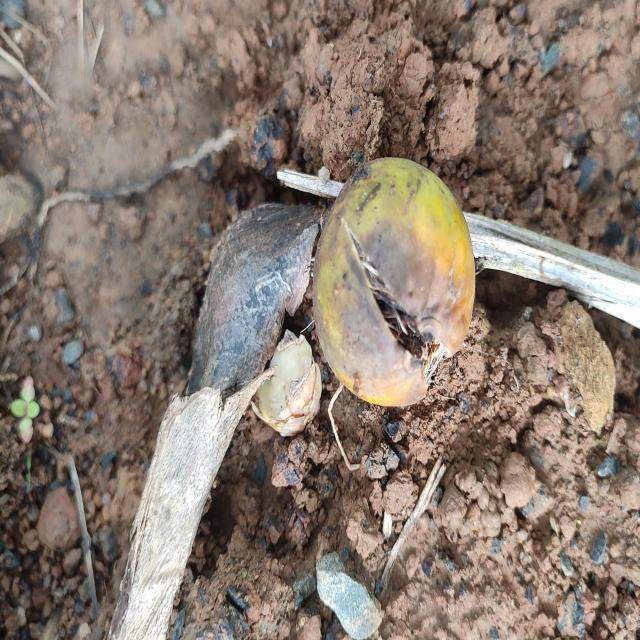damaged: (286, 158, 477, 410)
